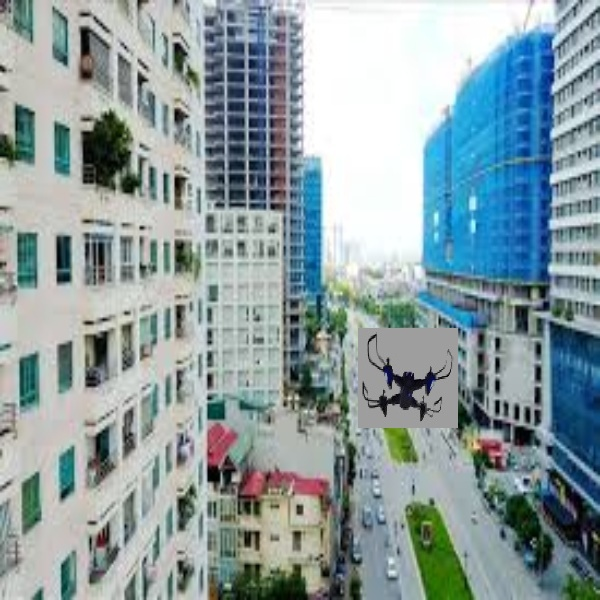drone: (359, 329, 454, 425)
